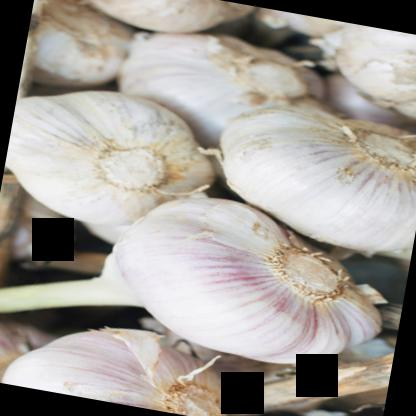garlic: (92, 176, 396, 378), (0, 73, 219, 239), (205, 90, 415, 261), (5, 309, 248, 415)
